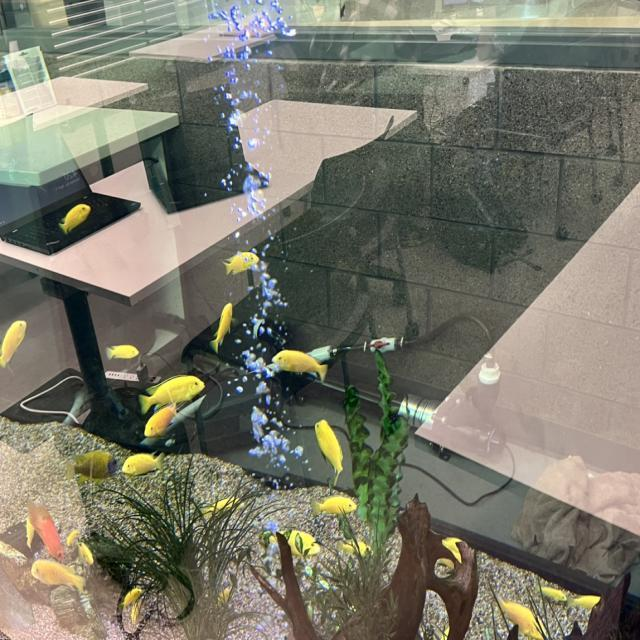YellowCichlid: (308, 416, 350, 478), (24, 555, 87, 595), (136, 377, 222, 405), (0, 316, 34, 372), (276, 520, 322, 560), (270, 344, 321, 379), (61, 448, 122, 477), (206, 296, 239, 349), (129, 409, 186, 437), (96, 335, 145, 367), (122, 450, 174, 480), (504, 594, 542, 630), (224, 243, 264, 277), (310, 494, 363, 519), (58, 198, 92, 236), (198, 496, 238, 513), (126, 584, 142, 624), (344, 538, 372, 559), (546, 580, 568, 606), (576, 596, 601, 610), (444, 532, 461, 550), (78, 542, 96, 558)
